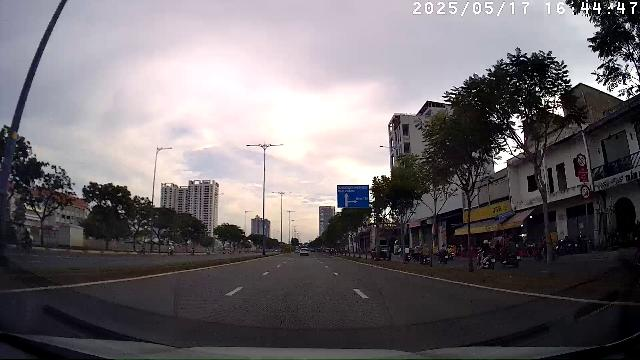127-toc-do-toi-da-50: (580, 184, 591, 200)
